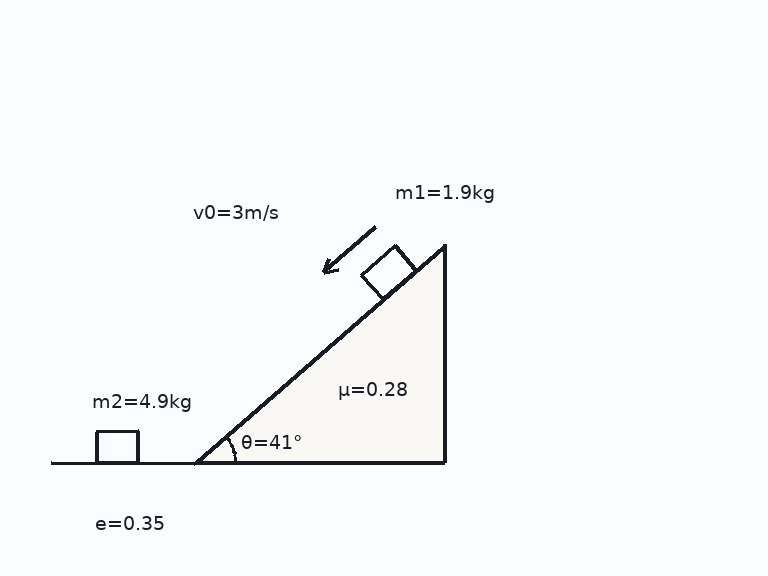block: (359, 244, 418, 301), (94, 429, 140, 464)
ramp: (193, 243, 446, 464)
